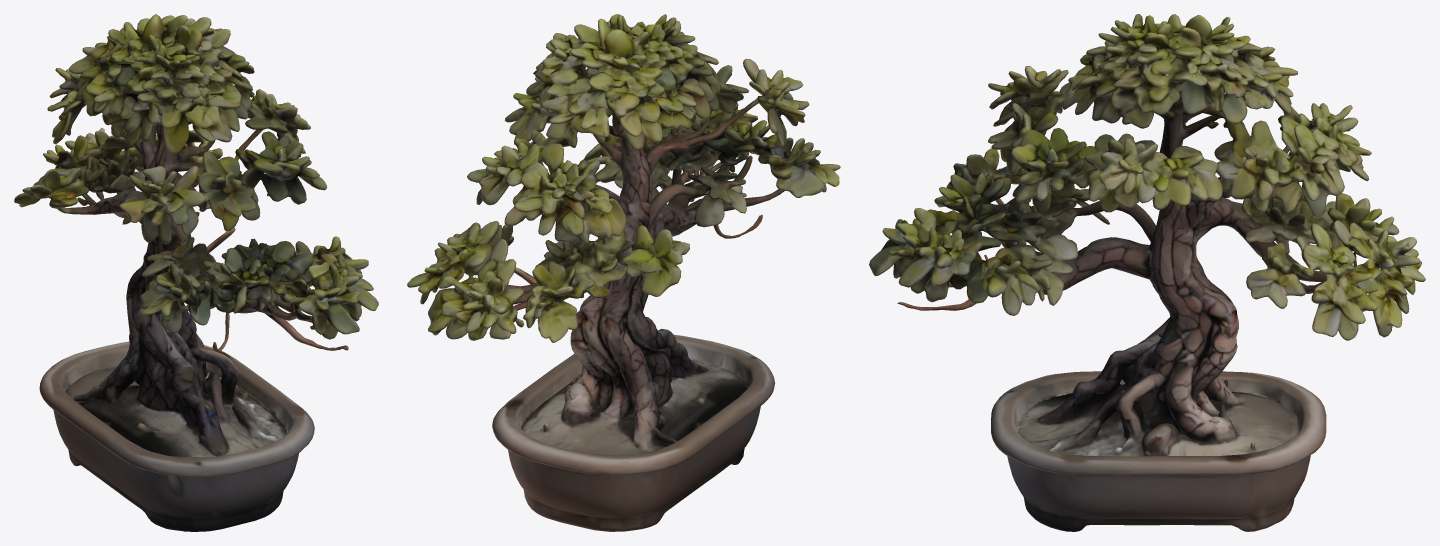
Rendered from nature-tree-bonsai.glb.
The picture shows the model from 3 angles, left to right: view 1: azimuth 30°, elevation 25°; view 2: azimuth 150°, elevation 25°; view 3: azimuth 270°, elevation 25°; orthographic projection. The views are drawn at different scales.
Parts seen in each view (by area): view 1: tripo_node_95e5df9c-aa94-429b-b72b-f501a4729398; view 2: tripo_node_95e5df9c-aa94-429b-b72b-f501a4729398; view 3: tripo_node_95e5df9c-aa94-429b-b72b-f501a4729398.
Boxes of the visible parts, left/top/right/bottom form: tripo_node_95e5df9c-aa94-429b-b72b-f501a4729398: left=14, top=14, right=378, bottom=531; tripo_node_95e5df9c-aa94-429b-b72b-f501a4729398: left=407, top=14, right=840, bottom=531; tripo_node_95e5df9c-aa94-429b-b72b-f501a4729398: left=869, top=14, right=1425, bottom=531.
Bounding box in the file's own units: 0.5639 × 1 × 1.04.
Materials: 1 (1 with a texture image).
